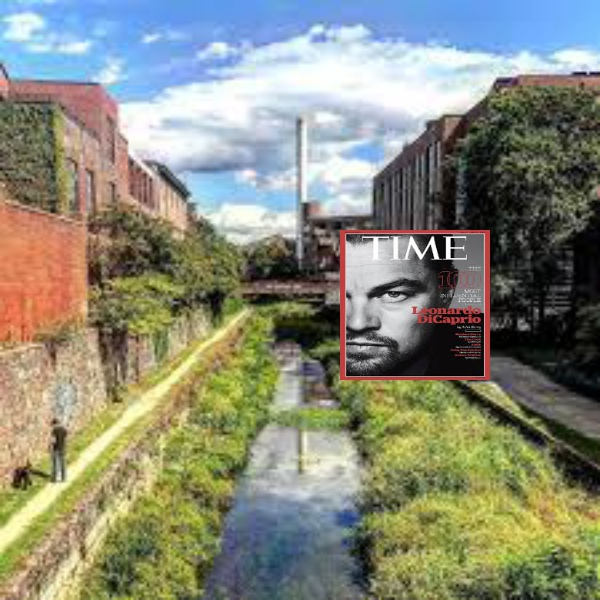time_cover: (341, 222, 491, 376)
